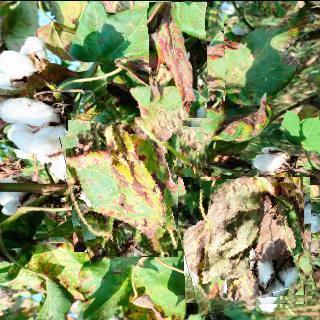blight: (66, 111, 210, 256), (178, 176, 312, 310), (132, 6, 225, 100)
